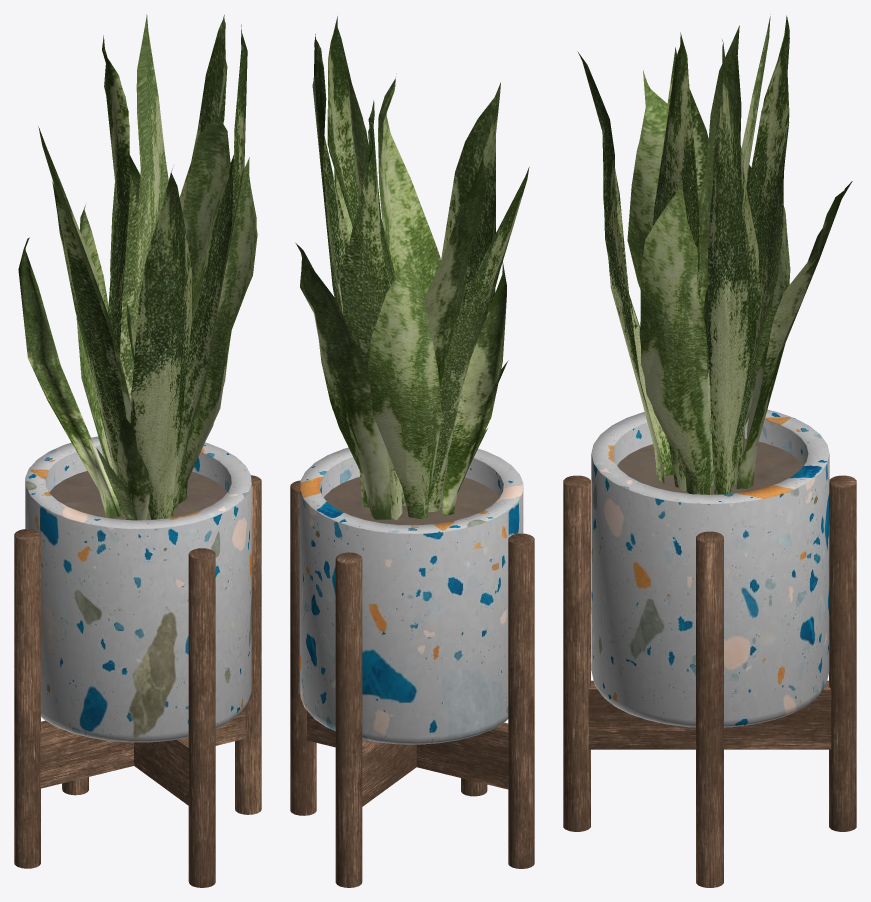
The model's file is snake-plant-2.glb.
The picture shows the model from 3 angles, left to right: view 1: azimuth 30°, elevation 25°; view 2: azimuth 150°, elevation 25°; view 3: azimuth 270°, elevation 25°; orthographic projection. The views are drawn at different scales.
Visible parts, largest first — view 1: Pianta_2_0; view 2: Pianta_2_0; view 3: Pianta_2_0.
Boxes of the visible parts, left/top/right/bottom form: Pianta_2_0: left=14, top=14, right=261, bottom=887; Pianta_2_0: left=290, top=16, right=534, bottom=887; Pianta_2_0: left=563, top=14, right=856, bottom=887.
Bounding box in the file's own units: 0.2158 × 0.678 × 0.2146.
Materials: 2 (2 with a texture image).
